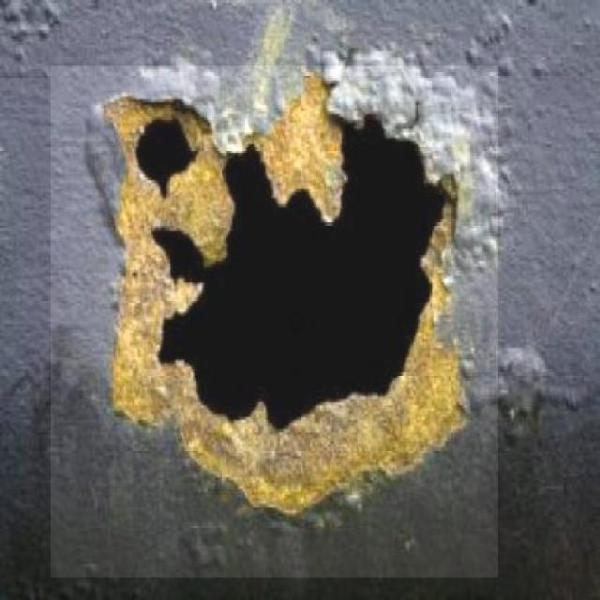crack: (50, 66, 497, 578)
